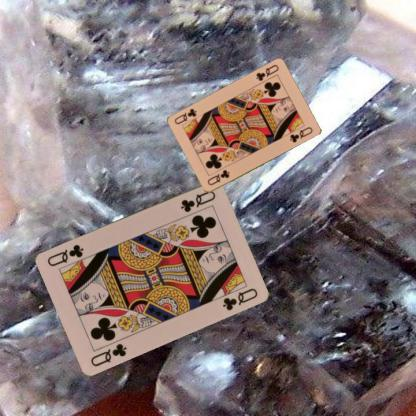Qc: (88, 340, 128, 368), (178, 187, 217, 213), (253, 62, 280, 82), (204, 168, 230, 186)
